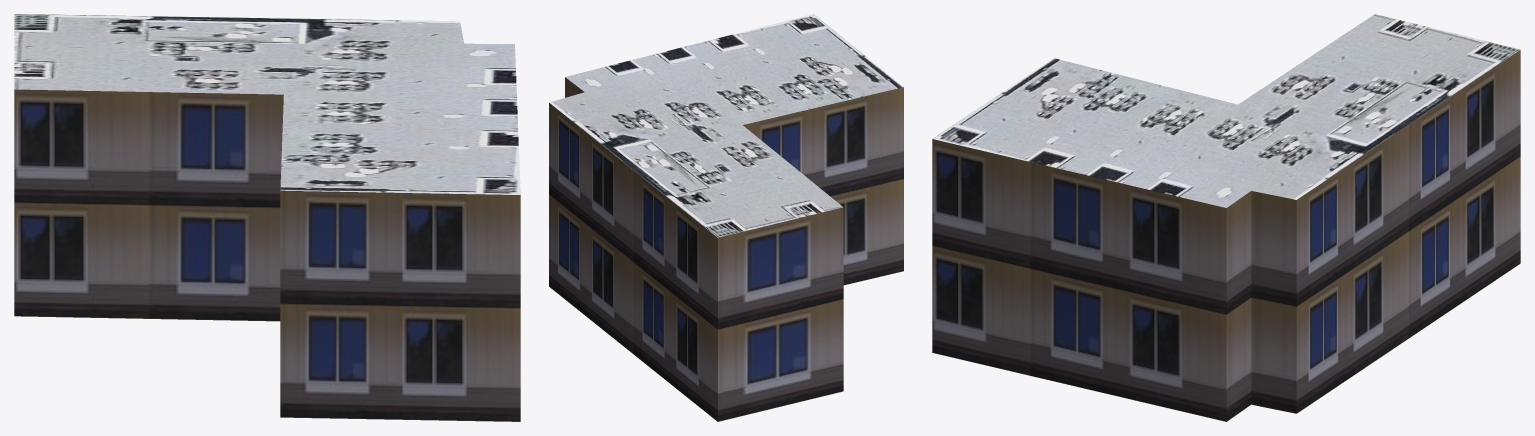
File: ResTex__607.fbx
The picture shows the model from 3 angles, left to right: view 1: azimuth 30°, elevation 25°; view 2: azimuth 150°, elevation 25°; view 3: azimuth 270°, elevation 25°; orthographic projection. The views are drawn at different scales.
Parts seen in each view (by area): view 1: CityEngineMaterial_5_m, CityEngineMaterial_4_m; view 2: CityEngineMaterial_5_m, CityEngineMaterial_4_m; view 3: CityEngineMaterial_5_m, CityEngineMaterial_4_m.
Boxes of the visible parts, left/top/right/bottom form: CityEngineMaterial_5_m: left=14, top=89, right=520, bottom=421; CityEngineMaterial_4_m: left=14, top=14, right=520, bottom=194; CityEngineMaterial_5_m: left=549, top=77, right=903, bottom=421; CityEngineMaterial_4_m: left=549, top=14, right=903, bottom=237; CityEngineMaterial_5_m: left=932, top=50, right=1520, bottom=421; CityEngineMaterial_4_m: left=932, top=14, right=1520, bottom=207.
Bounding box in the file's own units: 11.68 × 6 × 14.97.
2 materials, 2 textured.
